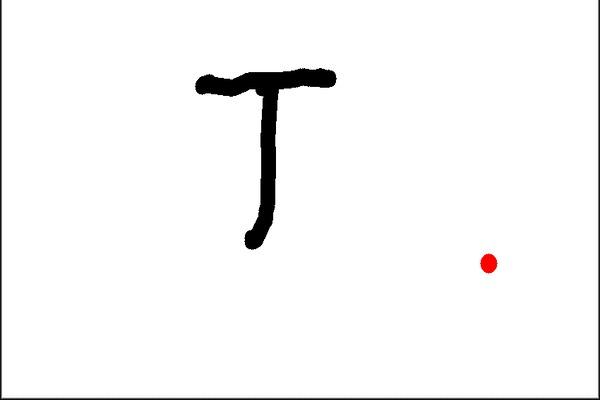T: (191, 60, 343, 255)
